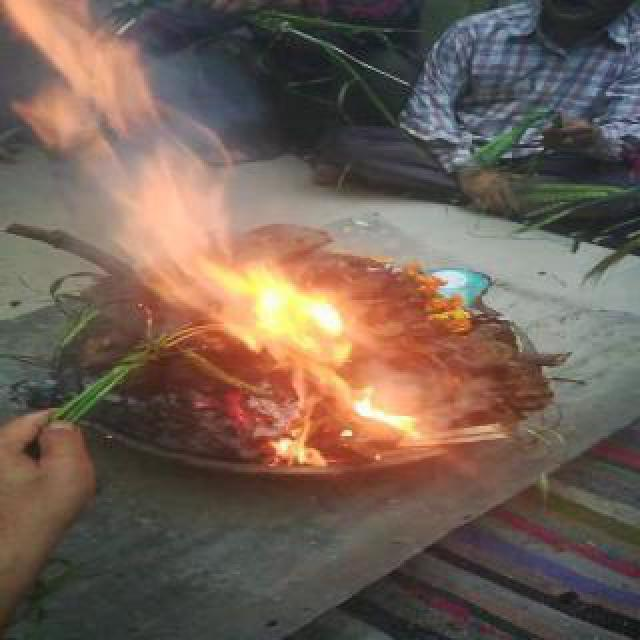Fire: (244, 292, 426, 460), (94, 138, 254, 302), (2, 2, 144, 140)
